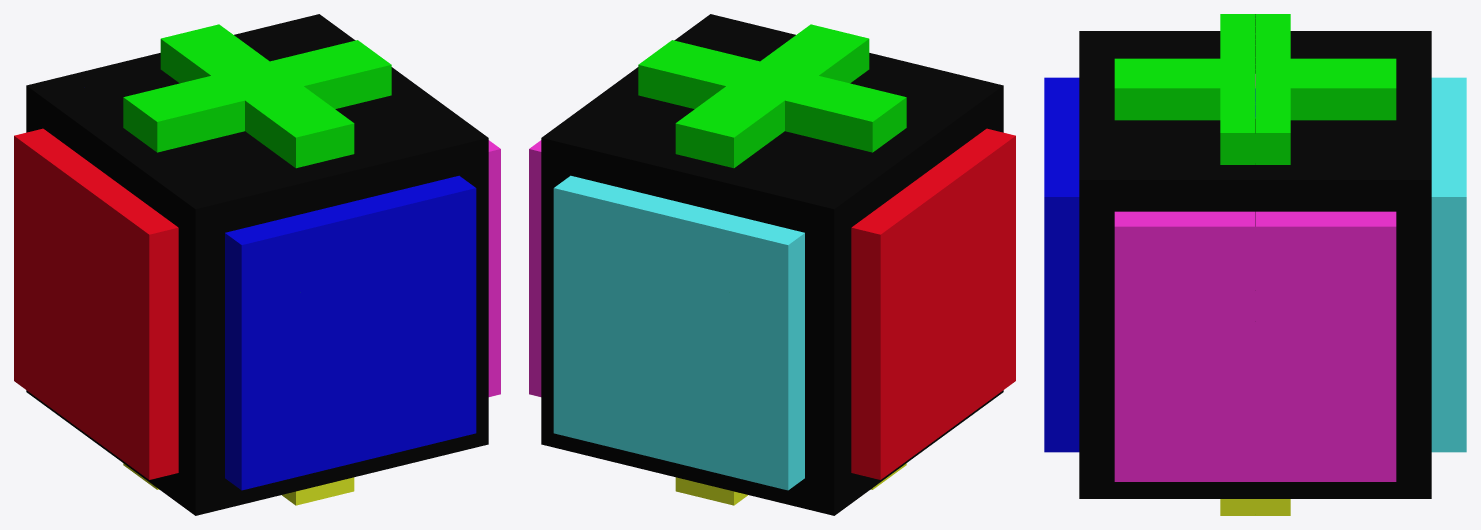
File: GooseCompass.fbx
3 renders of one model, left to right at view 1: azimuth 30°, elevation 25°; view 2: azimuth 150°, elevation 25°; view 3: azimuth 270°, elevation 25°, orthographic. The views are drawn at different scales.
Parts seen in each view (by area): view 1: Box; view 2: Box; view 3: Box.
Boxes of the visible parts, x1,y1,x2,y2 form: Box: (14,14,500,515); Box: (529,14,1015,515); Box: (1044,14,1466,515).
Size of the model in its own units: 12 by 12 by 12.
Materials: 1 (1 with a texture image).
